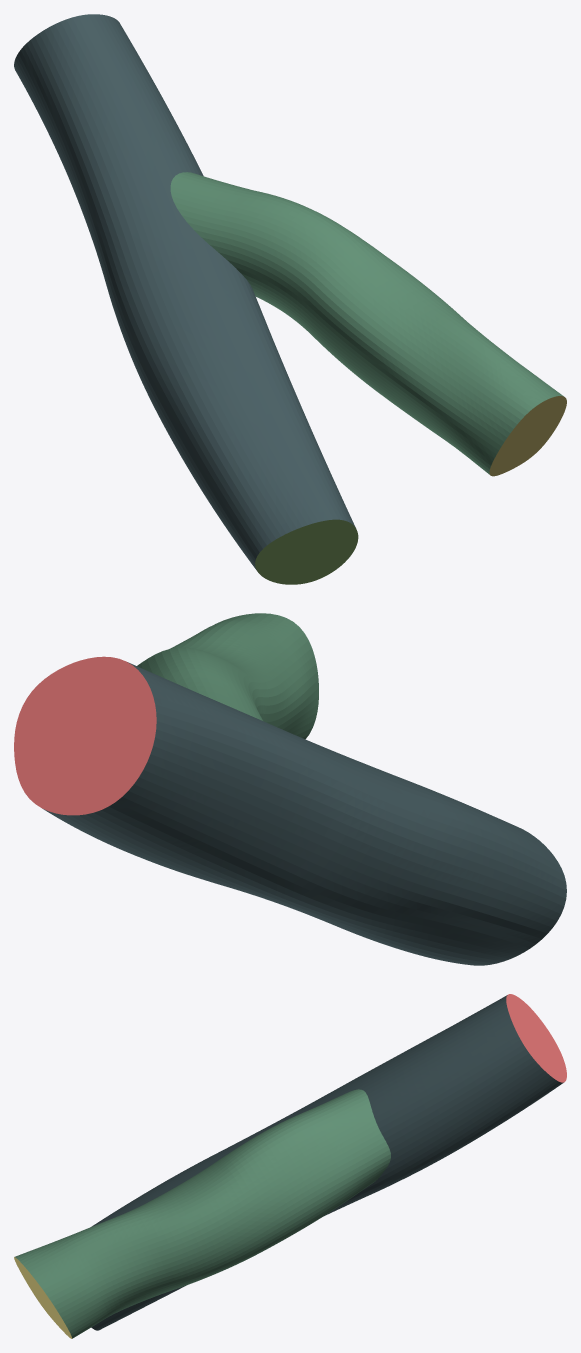
The model's file is end_to_side_post.vtp.fbx.
The picture shows the model from 3 angles, top to bottom: view 1: azimuth 30°, elevation 25°; view 2: azimuth 150°, elevation 25°; view 3: azimuth 270°, elevation 25°; orthographic projection. The views are drawn at different scales.
Parts seen in each view (by area): view 1: imagetostl_mesh0; view 2: imagetostl_mesh0; view 3: imagetostl_mesh0.
Boxes of the visible parts, x1=… form: imagetostl_mesh0: x1=14, y1=14, x2=566, y2=584; imagetostl_mesh0: x1=14, y1=613, x2=566, y2=965; imagetostl_mesh0: x1=14, y1=994, x2=566, y2=1338.
Bounding box in the file's own units: 2977 × 3672 × 5519.
